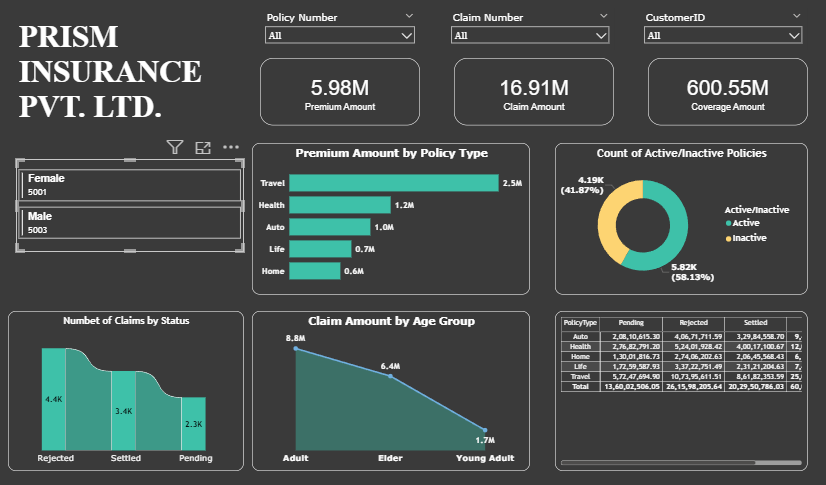

This screenshot's page, from the dashboard's own definition file:
{"tool":"powerbi","page":{"name":"Page 1","canvas":[1600,950],"ordinal":0},"visuals":[{"type":"slicer","fields":{"Values":["InsuranceData.PolicyNumber"]},"box":[512,32,304,80],"z":0},{"type":"slicer","fields":{"Values":["InsuranceData.ClaimNumber"]},"box":[864,32,320,80],"z":1000},{"type":"slicer","fields":{"Values":["InsuranceData.CustomerID"]},"box":[1232,32,320,80],"z":2000},{"type":"textbox","box":[48,48,416,240],"z":3000},{"type":"card","fields":{"Values":["Sum(InsuranceData.PremiumAmount)"]},"box":[512,128,304,128],"z":4000},{"type":"card","fields":{"Values":["Sum(InsuranceData.ClaimAmount)"]},"box":[880,128,304,128],"z":5000},{"type":"card","fields":{"Values":["Sum(InsuranceData.CoverageAmount)"]},"box":[1248,128,304,128],"z":6000},{"type":"multiRowCard","fields":{"Values":["InsuranceData.Gender","CountNonNull(InsuranceData.Gender)"]},"box":[48,336,400,208],"z":7000},{"type":"ribbonChart","title":"Numbet of Claims by Status","fields":{"Category":["InsuranceData.ClaimStatus"],"Y":["CountNonNull(InsuranceData.ClaimStatus)"]},"box":[32,576,416,288],"z":8000},{"type":"barChart","title":"Premium Amount by Policy Type","fields":{"Category":["InsuranceData.PolicyType"],"Y":["Sum(InsuranceData.PremiumAmount)"]},"box":[496,288,528,288],"z":9000},{"type":"lineChart","title":"Claim Amount by Age Group ","fields":{"Category":["InsuranceData.Age Group "],"Y":["Sum(InsuranceData.ClaimAmount)"]},"box":[496,608,528,304],"z":10000},{"type":"donutChart","title":"Count of Active/Inactive Policies","fields":{"Category":["InsuranceData.Active/Inactive"],"Y":["CountNonNull(InsuranceData.Active/Inactive)"]},"box":[1072,288,480,288],"z":11000},{"type":"pivotTable","fields":{"Rows":["InsuranceData.PolicyType"],"Values":["Sum(InsuranceData.CoverageAmount)"],"Columns":["InsuranceData.ClaimStatus"]},"box":[1072,608,480,304],"z":12000}]}

Visuals, with their boxes in screenshot pixels (x1, y1, x2, y2), scaled from the page's 1600x950 canvas onto the 826x485 screenshot:
slicer - InsuranceData.PolicyNumber: Rect(264, 16, 421, 57)
slicer - InsuranceData.ClaimNumber: Rect(446, 16, 611, 57)
slicer - InsuranceData.CustomerID: Rect(636, 16, 801, 57)
textbox: Rect(25, 25, 240, 147)
card - Sum(InsuranceData.PremiumAmount): Rect(264, 65, 421, 131)
card - Sum(InsuranceData.ClaimAmount): Rect(454, 65, 611, 131)
card - Sum(InsuranceData.CoverageAmount): Rect(644, 65, 801, 131)
multiRowCard - InsuranceData.Gender x CountNonNull(InsuranceData.Gender): Rect(25, 172, 231, 278)
"Numbet of Claims by Status" ribbonChart: Rect(17, 294, 231, 441)
"Premium Amount by Policy Type" barChart: Rect(256, 147, 529, 294)
"Claim Amount by Age Group " lineChart: Rect(256, 310, 529, 466)
"Count of Active/Inactive Policies" donutChart: Rect(553, 147, 801, 294)
pivotTable - InsuranceData.PolicyType x Sum(InsuranceData.CoverageAmount): Rect(553, 310, 801, 466)
